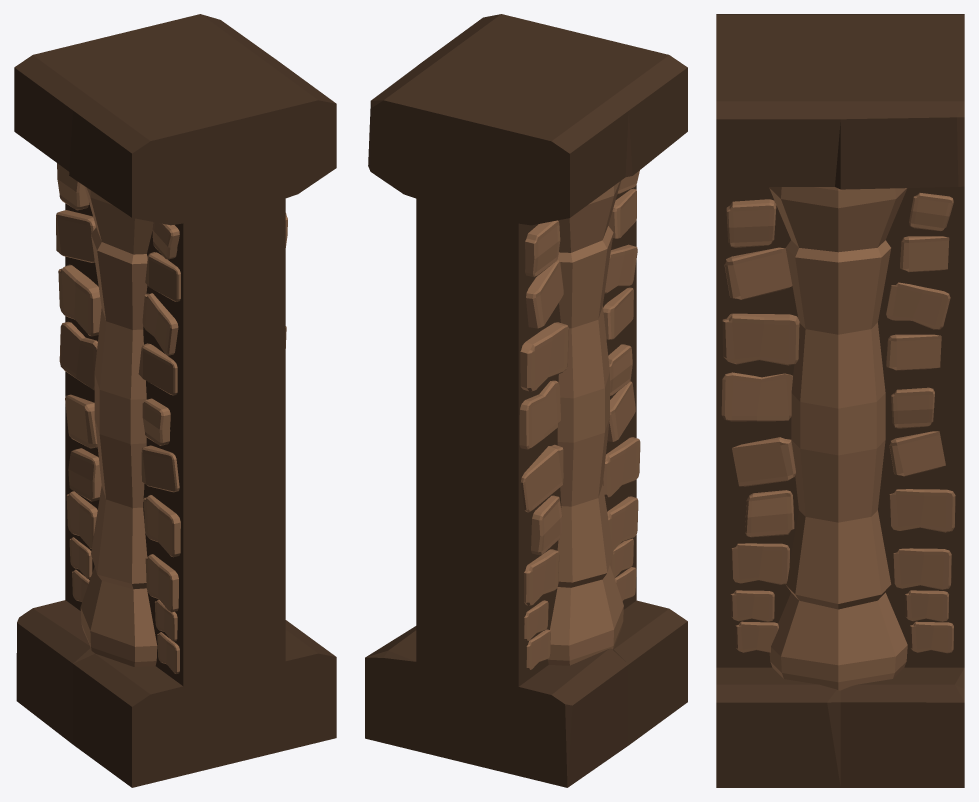
The model's file is columna 2.fbx.
3 views of the same model, side by side, from view 1: azimuth 30°, elevation 25°; view 2: azimuth 150°, elevation 25°; view 3: azimuth 270°, elevation 25° (orthographic). The views are drawn at different scales.
Parts seen in each view (by area): view 1: Wall Test With Stones.012; view 2: Wall Test With Stones.012; view 3: Wall Test With Stones.012.
Boxes of the visible parts, bbox=[...] form: Wall Test With Stones.012: bbox=[14, 14, 336, 787]; Wall Test With Stones.012: bbox=[365, 14, 687, 787]; Wall Test With Stones.012: bbox=[716, 14, 964, 787].
Size of the model in its own units: 209 by 600 by 200.
